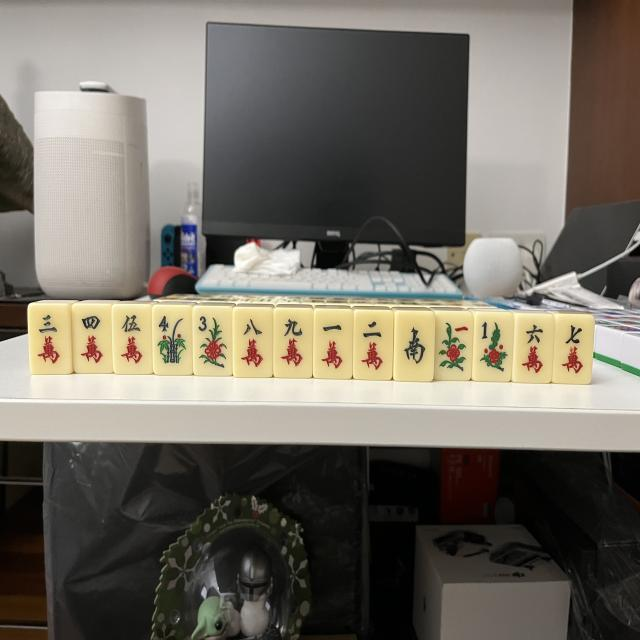f1: (472, 314, 514, 382)
f3: (192, 309, 232, 377)
f4: (154, 308, 194, 376)
ff1: (435, 312, 475, 379)
m1: (314, 310, 352, 377)
m2: (352, 312, 393, 381)
m3: (28, 304, 72, 374)
m4: (72, 305, 111, 374)
m5: (114, 304, 154, 372)
m6: (512, 316, 554, 383)
m7: (552, 315, 594, 383)
m8: (234, 308, 273, 376)
m9: (274, 312, 312, 379)
south: (395, 312, 435, 380)
